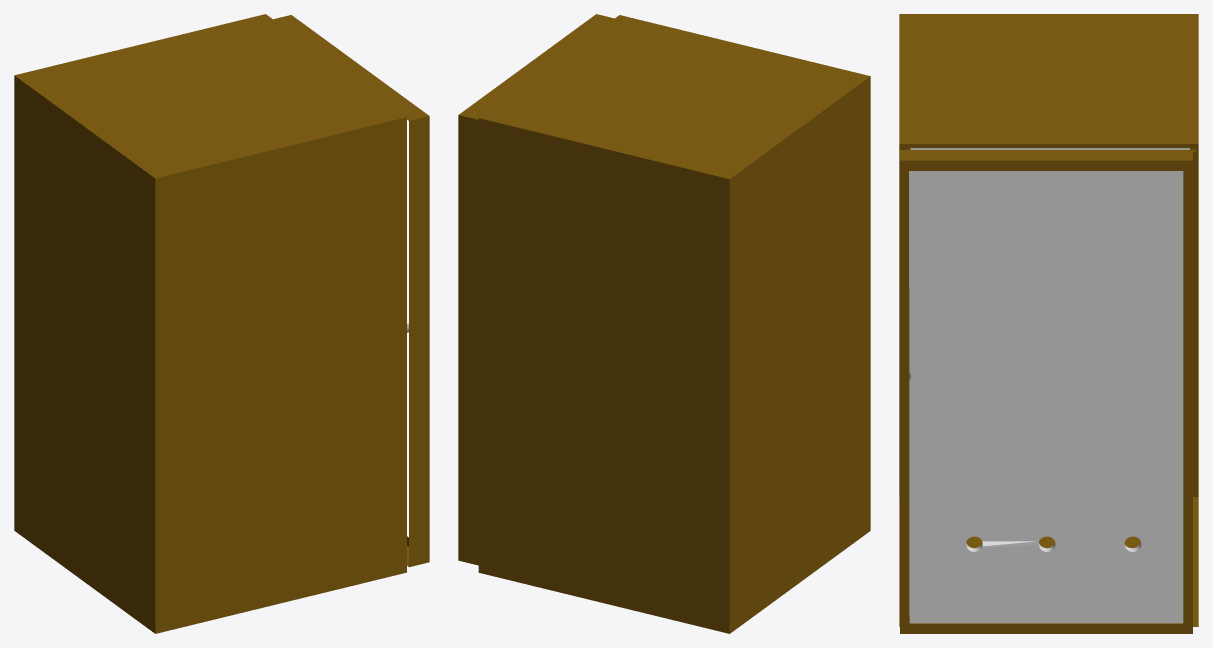
File: visual_fire_rescue_box.dae
3 renders of one model, left to right at view 1: azimuth 30°, elevation 25°; view 2: azimuth 150°, elevation 25°; view 3: azimuth 270°, elevation 25°, orthographic. The views are drawn at different scales.
Parts seen in each view (by area): view 1: box_001, box_000; view 2: box_001, box_000; view 3: box_001, box_000.
Part boxes in pixels (x1,y1,x2,y2): box_001: (14,14,408,633); box_000: (273,15,429,567); box_001: (478,15,870,633); box_000: (458,14,614,565); box_001: (899,14,1198,626); box_000: (900,150,1192,633).
Bounding box in the file's own units: 37.19 × 33.11 × 58.97.
